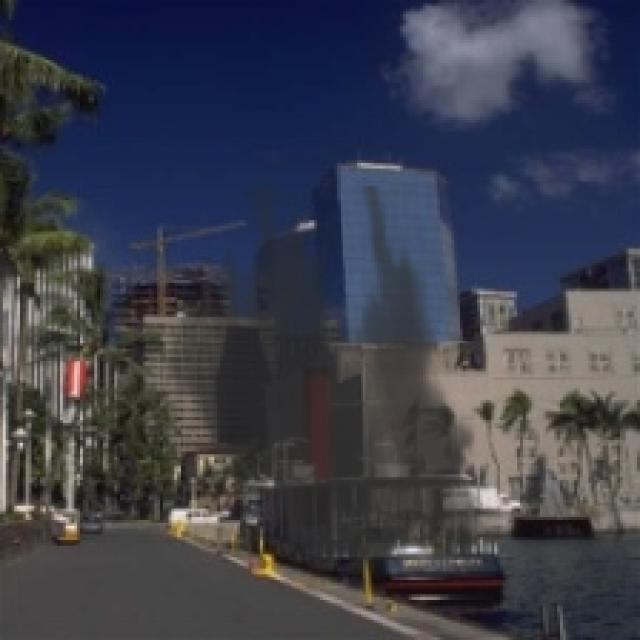Smoke: (157, 185, 500, 600)
